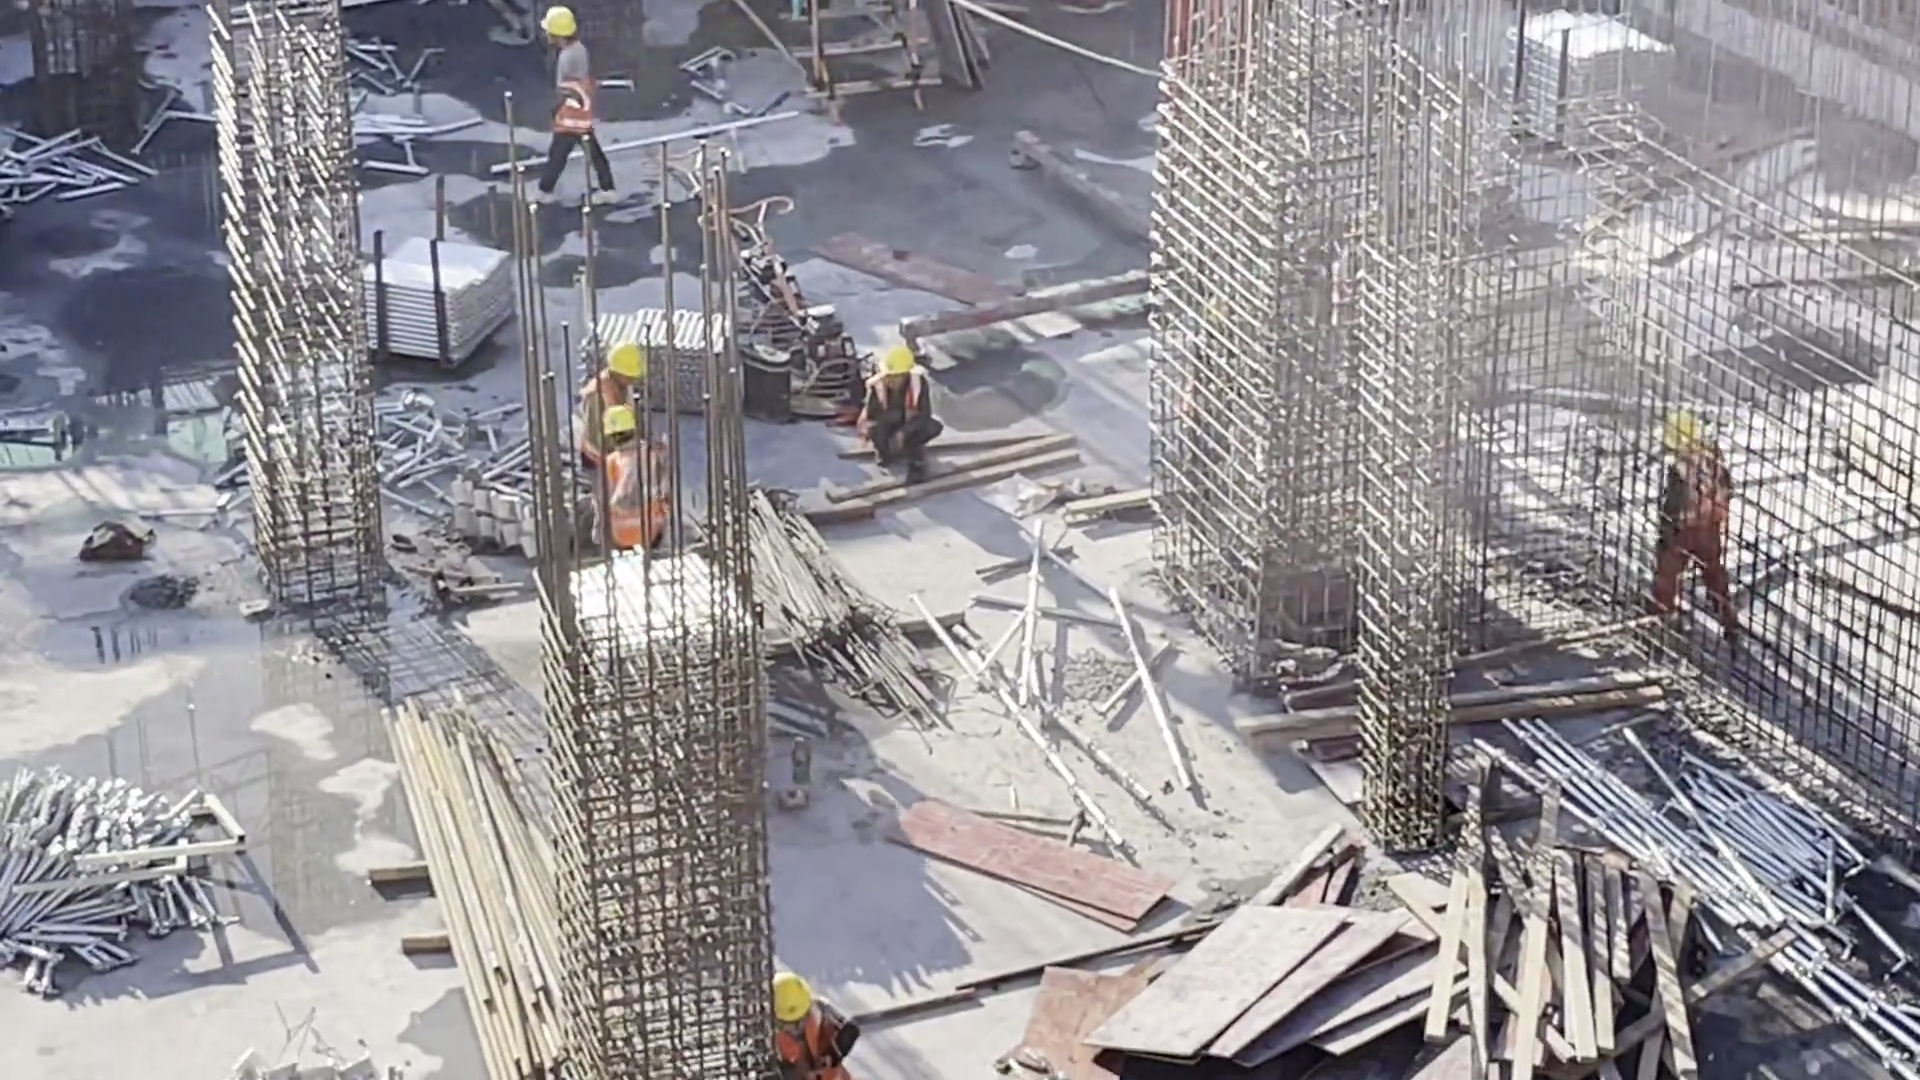helmet: (1658, 401, 1708, 456), (603, 339, 651, 385), (769, 974, 812, 1016), (589, 401, 638, 437), (534, 5, 580, 41), (875, 345, 912, 372)
person: (1637, 409, 1769, 664), (578, 408, 685, 572), (834, 332, 948, 479), (528, 12, 614, 204), (552, 334, 666, 471), (733, 969, 865, 1080)
vest: (756, 1008, 853, 1080), (610, 453, 675, 545), (575, 386, 647, 463), (853, 368, 934, 431), (1670, 456, 1729, 530), (548, 75, 600, 153)
